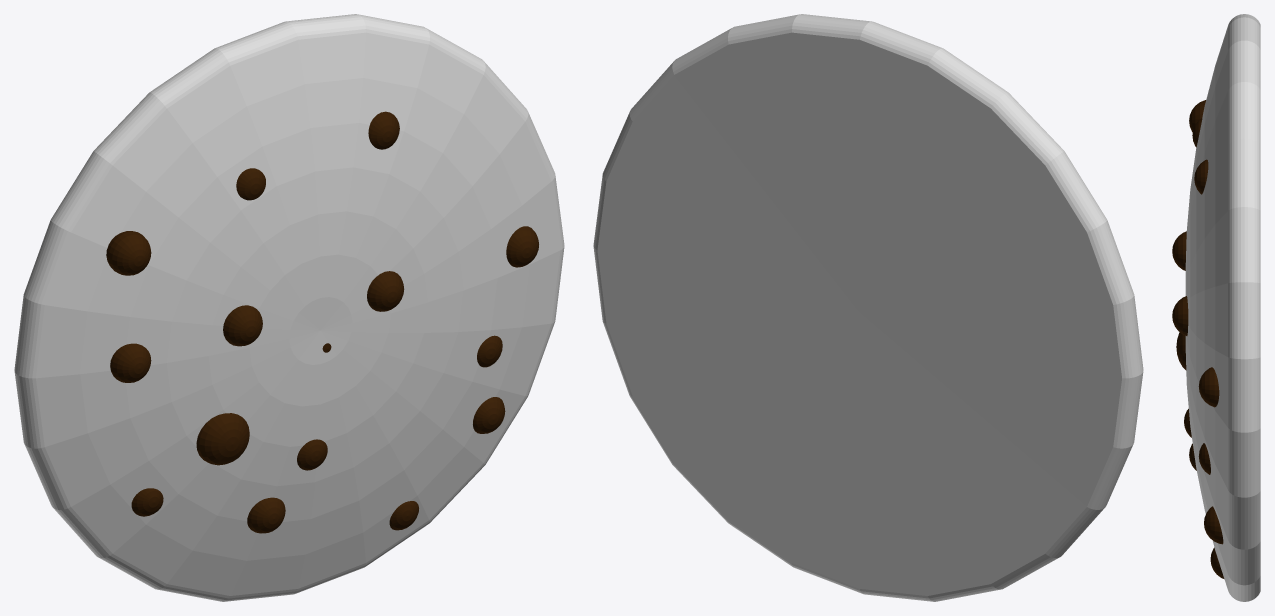
3 views of the same model, side by side, from view 1: azimuth 30°, elevation 25°; view 2: azimuth 150°, elevation 25°; view 3: azimuth 270°, elevation 25° (orthographic). The views are drawn at different scales.
Parts seen in each view (by area): view 1: cookie; view 2: cookie; view 3: cookie.
Part boxes in pixels (bbox=[...]): cookie: bbox=[14, 14, 564, 601]; cookie: bbox=[593, 14, 1143, 601]; cookie: bbox=[1172, 14, 1260, 601].
Size of the model in its own units: 246 by 246 by 36.93.
